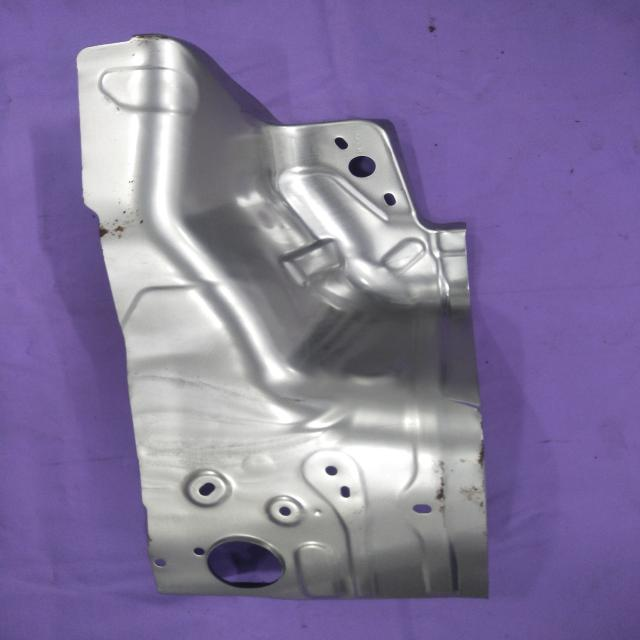Defect: (440, 388, 492, 419)
rust: (71, 169, 171, 263), (437, 425, 500, 521)
